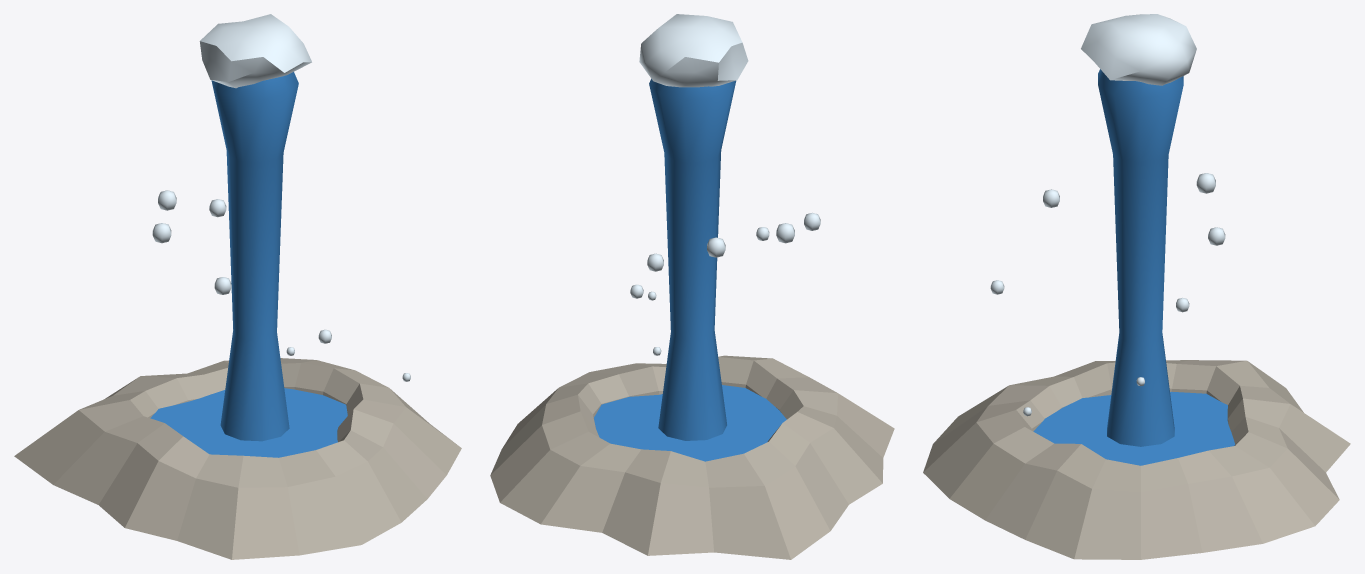
File: geyser-pixor.glb
3 views of the same model, side by side, from view 1: azimuth 30°, elevation 25°; view 2: azimuth 150°, elevation 25°; view 3: azimuth 270°, elevation 25° (orthographic). The views are drawn at different scales.
Parts seen in each view (by area): view 1: Geyser mound, Geyser spout, Geyser pool, Spout foam, Geyser drops; view 2: Geyser mound, Geyser spout, Geyser pool, Spout foam, Geyser drops; view 3: Geyser mound, Geyser spout, Geyser pool, Spout foam, Geyser drops.
Boxes of the visible parts, x1,y1,x2,y2 form: Geyser mound: [14, 358, 461, 559]; Geyser spout: [211, 72, 298, 441]; Geyser pool: [150, 388, 347, 457]; Spout foam: [199, 14, 311, 88]; Geyser drops: [152, 190, 410, 381]; Geyser mound: [490, 355, 894, 559]; Geyser spout: [649, 78, 736, 440]; Geyser pool: [594, 385, 786, 461]; Spout foam: [639, 14, 748, 87]; Geyser drops: [630, 213, 820, 355]; Geyser mound: [923, 360, 1350, 559]; Geyser spout: [1098, 69, 1183, 446]; Geyser pool: [1033, 391, 1235, 465]; Spout foam: [1081, 14, 1196, 85]; Geyser drops: [990, 173, 1225, 416].
Bounding box in the file's own units: 1.81 × 2.21 × 1.9.
